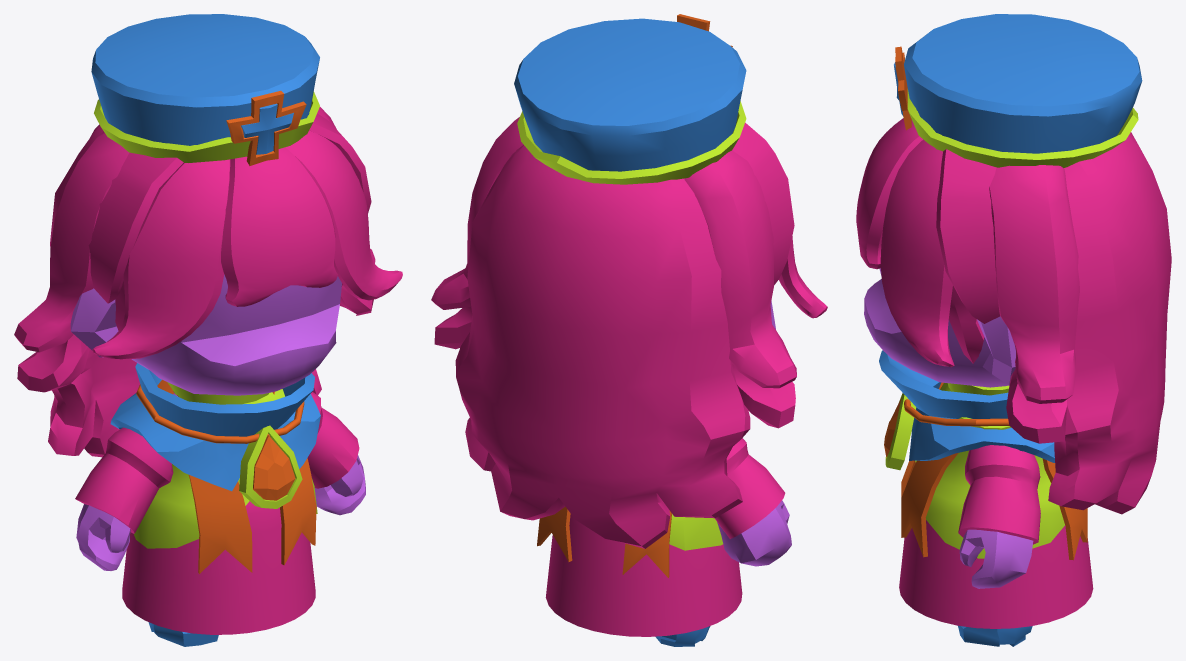
The model's file is priest_.fbx.
3 views of the same model, side by side, from view 1: azimuth 30°, elevation 25°; view 2: azimuth 150°, elevation 25°; view 3: azimuth 270°, elevation 25° (orthographic).
Visible parts, largest first — view 1: hair+cloth, subcloth+hat, body+head, subcloth3, subcloth2; view 2: hair+cloth, subcloth+hat, subcloth2, body+head, subcloth3; view 3: hair+cloth, subcloth+hat, subcloth2, body+head, subcloth3.
Boxes of the visible parts, left/top/right/bottom form: hair+cloth: left=14, top=107, right=402, bottom=634; subcloth+hat: left=91, top=14, right=320, bottom=646; body+head: left=70, top=274, right=365, bottom=570; subcloth3: left=136, top=90, right=316, bottom=573; subcloth2: left=94, top=91, right=319, bottom=548; hair+cloth: left=431, top=117, right=827, bottom=636; subcloth+hat: left=514, top=18, right=746, bottom=646; subcloth2: left=517, top=101, right=746, bottom=550; body+head: left=717, top=300, right=791, bottom=566; subcloth3: left=537, top=14, right=732, bottom=577; hair+cloth: left=856, top=118, right=1171, bottom=628; subcloth+hat: left=879, top=14, right=1142, bottom=646; subcloth2: left=885, top=89, right=1138, bottom=558; body+head: left=864, top=268, right=1033, bottom=588; subcloth3: left=884, top=46, right=1087, bottom=560.
Bounding box in the file's own units: 337 × 517 × 262.
